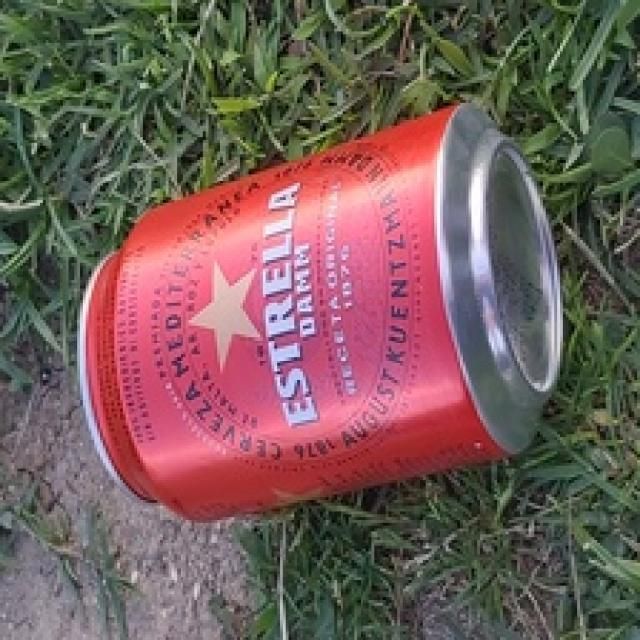recyclable: (76, 100, 566, 524)
